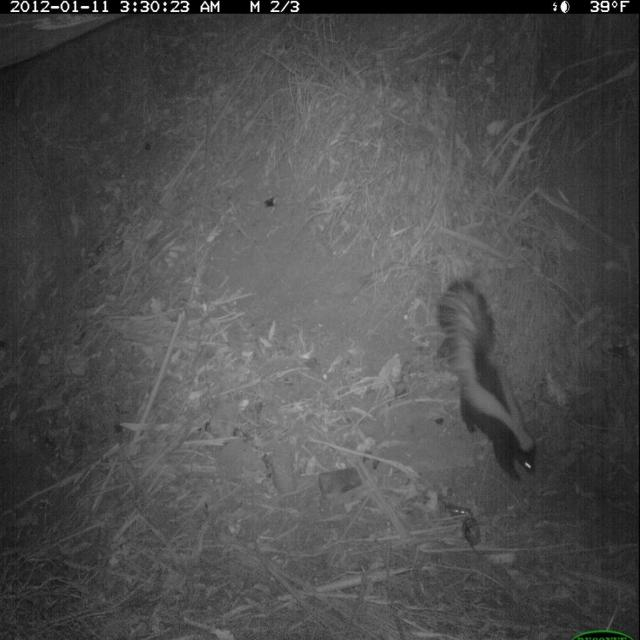skunk: (437, 276, 542, 490)
